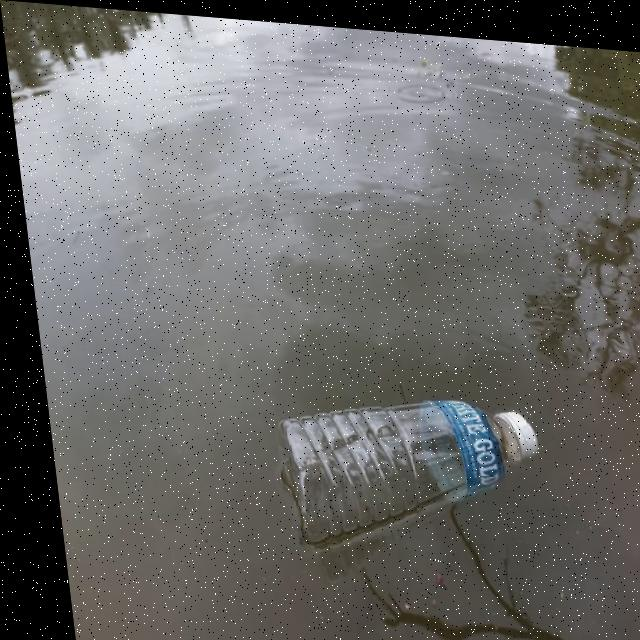waterbottle: (258, 368, 547, 546)
